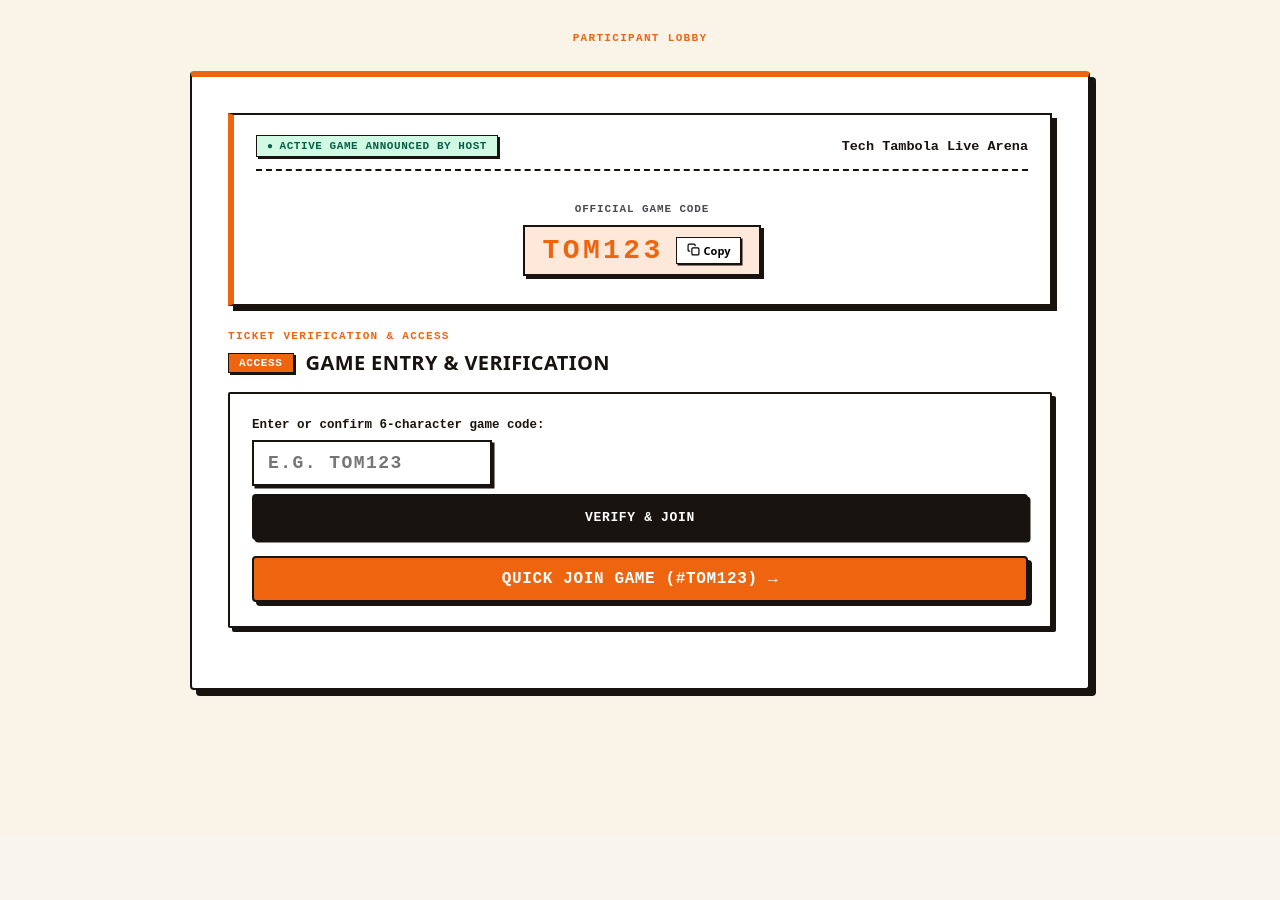
Test: ParticipantLobby › displays error message when code validation fails
The image size is (1280, 900).
Step 1. Type "WRONG1" into the field labelled "Enter or confirm 6-character game code:" → (372, 463), box [252,440,492,486]
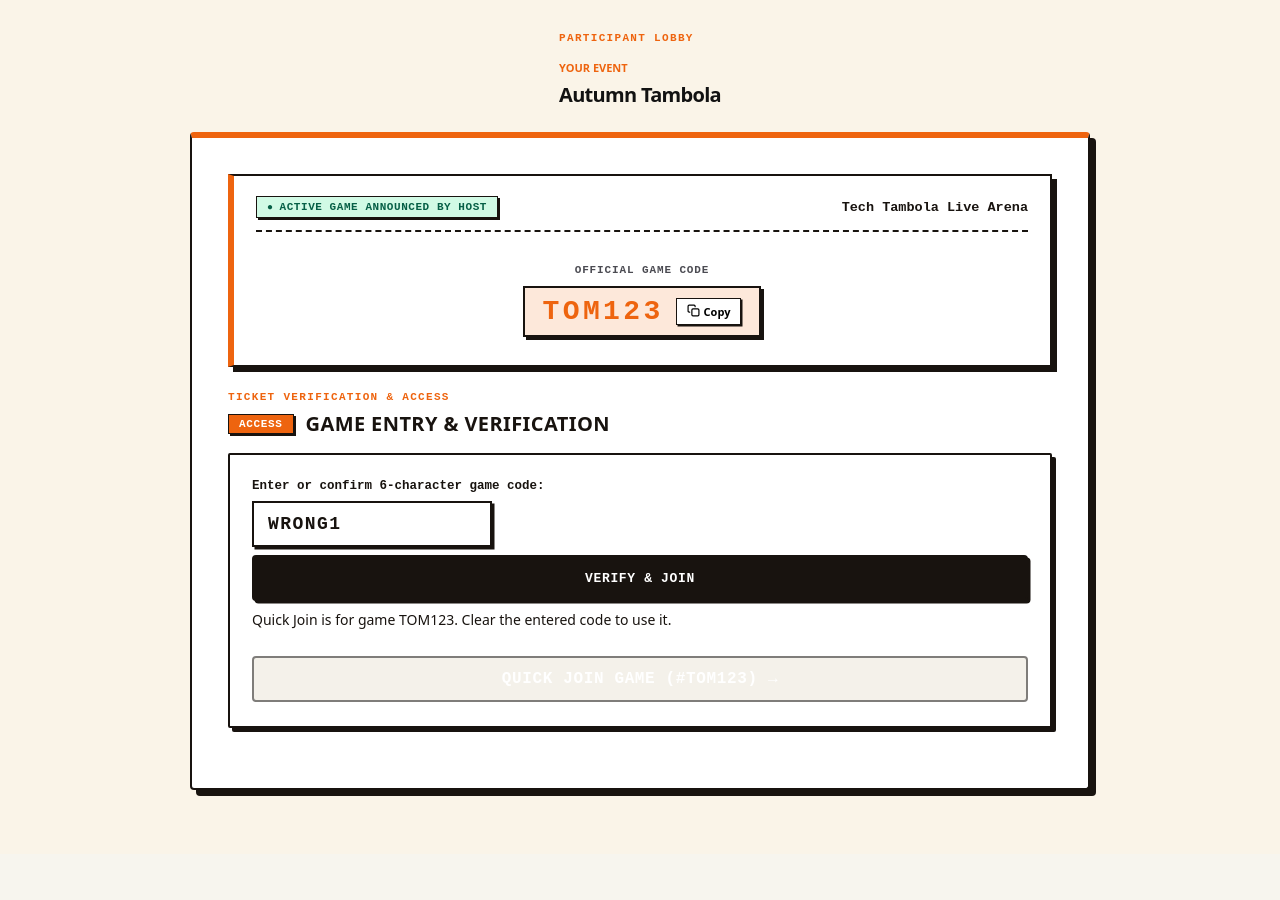
Step 2. Click the button "VERIFY & JOIN" → (640, 578), box [252,555,1028,601]
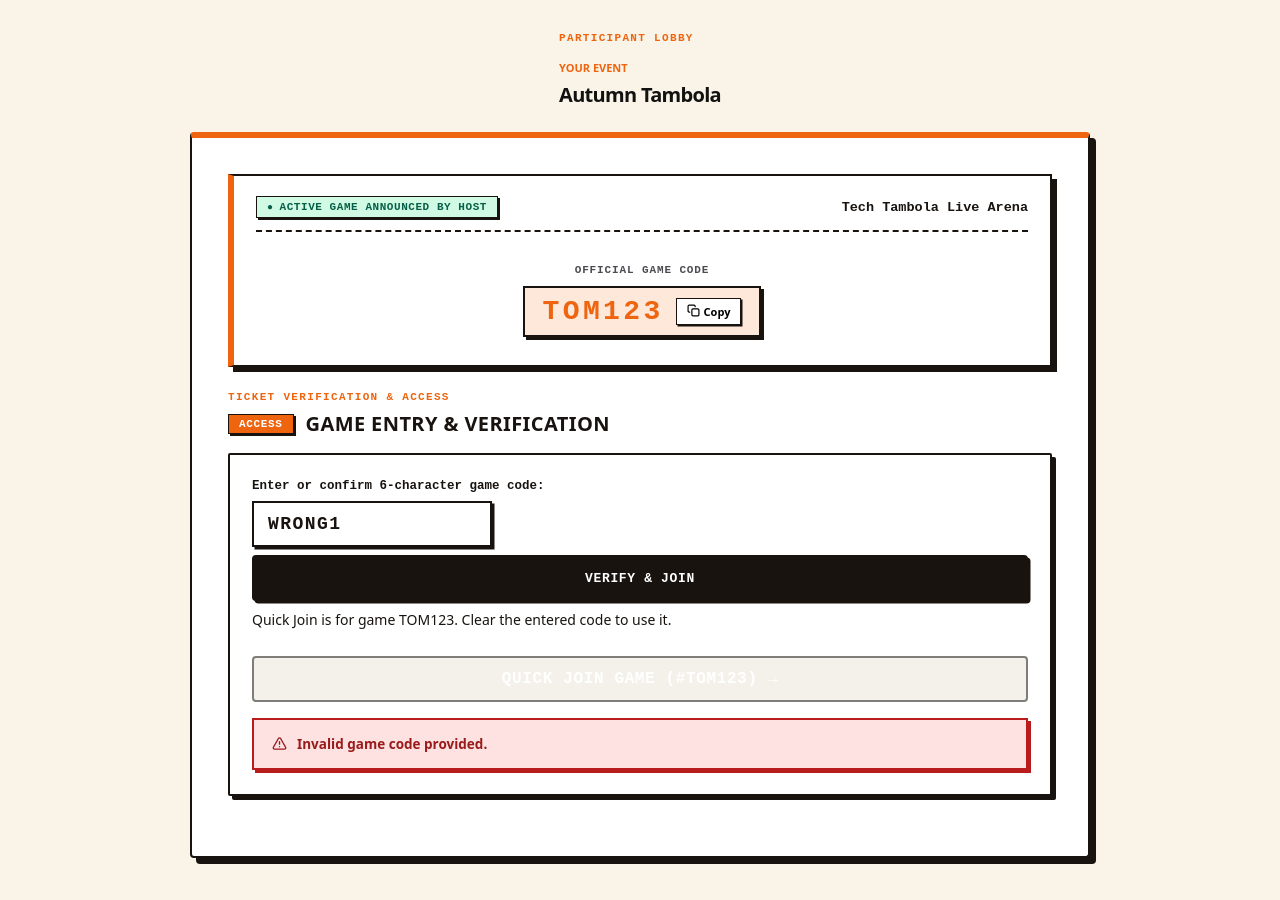
expect the message reads "Invalid game code provided.": met, box [297,735,487,753]
